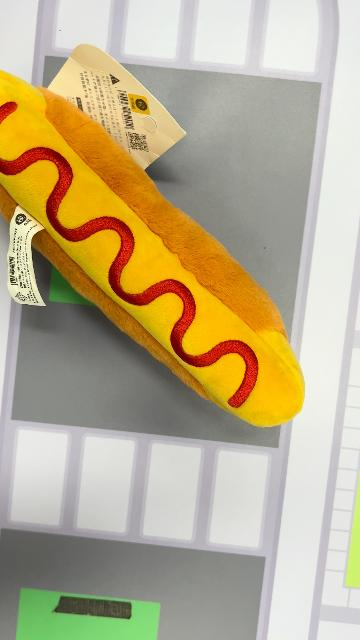hotdog: (1, 69, 306, 429)
